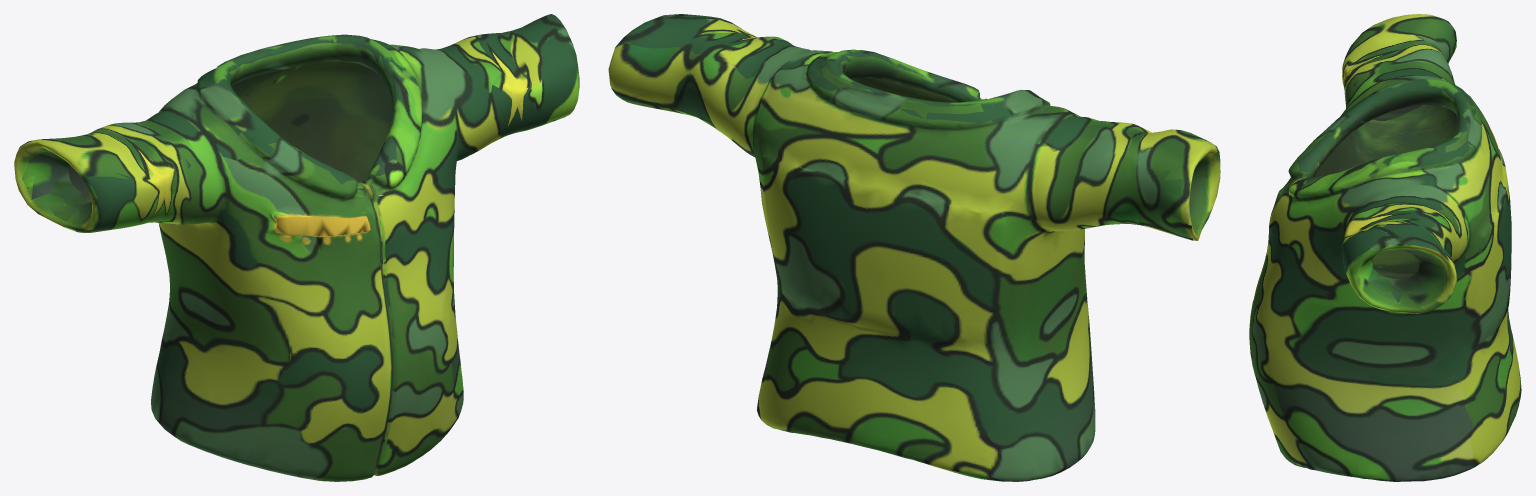
Rendered from Camo-Green-v2.glb.
3 renders of one model, left to right at view 1: azimuth 30°, elevation 25°; view 2: azimuth 150°, elevation 25°; view 3: azimuth 270°, elevation 25°, orthographic. The views are drawn at different scales.
Parts seen in each view (by area): view 1: Camo-Green-v2; view 2: Camo-Green-v2; view 3: Camo-Green-v2.
Part boxes in pixels (x1,y1,x2,y2): Camo-Green-v2: (14, 14, 579, 481); Camo-Green-v2: (608, 14, 1220, 481); Camo-Green-v2: (1249, 14, 1521, 481).
Size of the model in its own units: 0.6943 by 0.4474 by 0.3307.
1 material, 1 textured.
